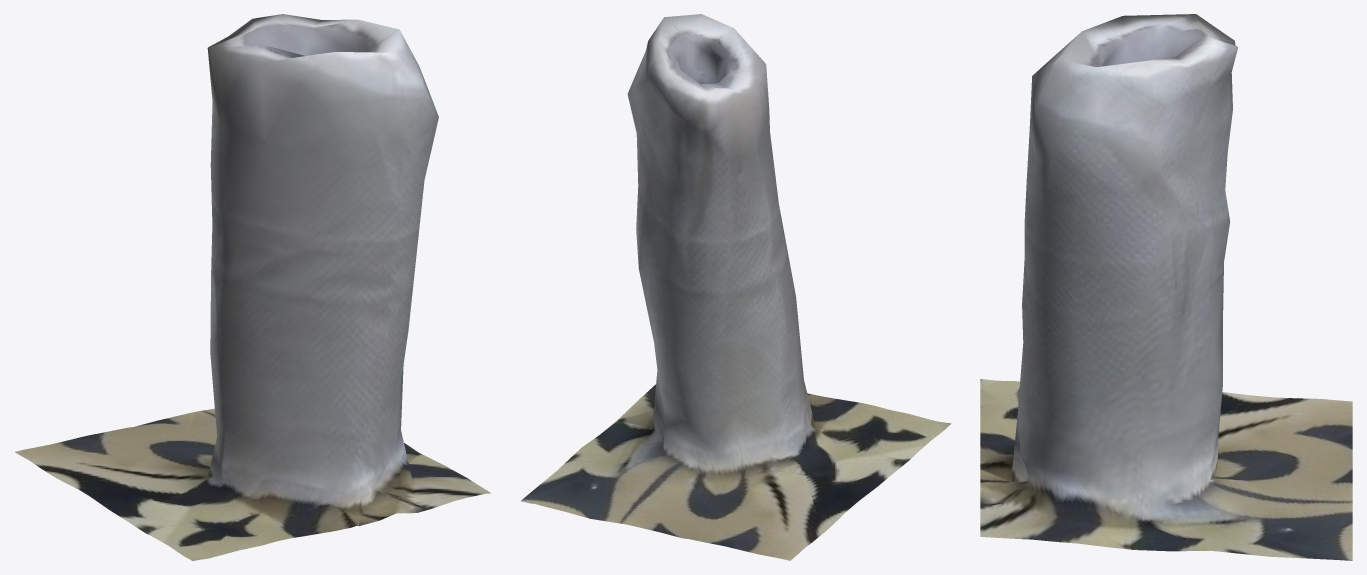
The model's file is 3DModel.glb.
3 renders of one model, left to right at view 1: azimuth 30°, elevation 25°; view 2: azimuth 150°, elevation 25°; view 3: azimuth 270°, elevation 25°, orthographic. The views are drawn at different scales.
Visible parts, largest first — view 1: 3DModel; view 2: 3DModel; view 3: 3DModel.
Part boxes in pixels (x1,y1,x2,y2): 3DModel: [15, 14, 490, 560]; 3DModel: [521, 14, 950, 560]; 3DModel: [980, 14, 1352, 560].
Bounding box in the file's own units: 0.1089 × 0.1586 × 0.1125.
Materials: 1 (1 with a texture image).
